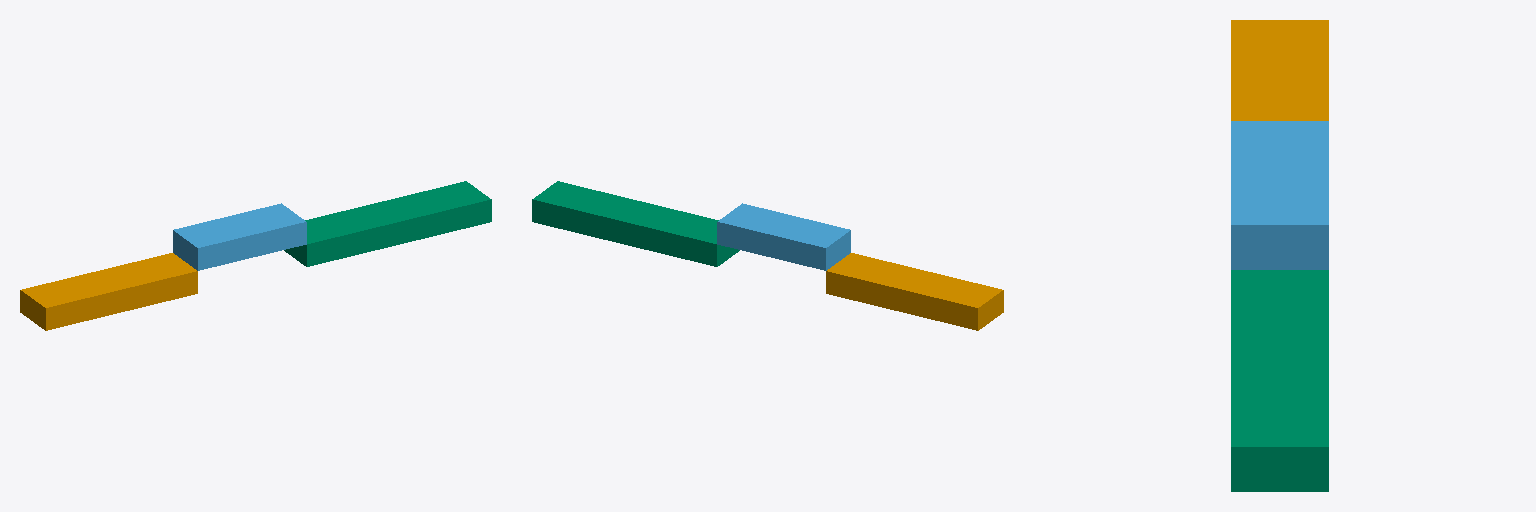
URDF robot description (test_data_v7):
<?xml version="1.0" encoding="utf-8"?>
<robot name="test_data_v7">
	<link name="link0:1">
		<inertial>
			<mass value="0.1099"/>
			<origin rpy="0 0 0" xyz="0.035 0.01 0.005"/>
			<inertia ixx="4.579166666666662e-06" ixy="0.0" ixz="0.0" iyy="4.579166666666663e-05" iyz="0.0" izz="4.8539166666666644e-05"/>
		</inertial>
		<collision name="link0:1_collision">
			<origin rpy="0.0 -0.0 0.0" xyz="0.0 0.0 0.0"/>
			<geometry>
				<mesh filename="./meshes/link0.stl" scale="1.0 1.0 1.0"/>
			</geometry>
		</collision>
		<visual name="link0:1_visual">
			<origin rpy="0.0 -0.0 0.0" xyz="0.0 0.0 0.0"/>
			<geometry>
				<mesh filename="./meshes/link0.stl" scale="1.0 1.0 1.0"/>
			</geometry>
		</visual>
	</link>
	<link name="link1:1">
		<inertial>
			<mass value="0.07849999999999999"/>
			<origin rpy="0 0 0" xyz="0.024999999999999994 -3.469446951953614e-18 0.004999999999999999"/>
			<inertia ixx="3.2708333333333284e-06" ixy="-1.1102230246251566e-20" ixz="0.0" iyy="1.7008333333333246e-05" iyz="0.0" izz="1.8970833333333203e-05"/>
		</inertial>
		<collision name="link1:1_collision">
			<origin rpy="0.0 -0.0 -1.2246467991473532e-16" xyz="-0.08 -0.00999999999999999 0.0"/>
			<geometry>
				<mesh filename="./meshes/link1.stl" scale="1.0 1.0 1.0"/>
			</geometry>
		</collision>
		<visual name="link1:1_visual">
			<origin rpy="0.0 -0.0 -1.2246467991473532e-16" xyz="-0.08 -0.00999999999999999 0.0"/>
			<geometry>
				<mesh filename="./meshes/link1.stl" scale="1.0 1.0 1.0"/>
			</geometry>
		</visual>
	</link>
	<link name="link2:1">
		<inertial>
			<mass value="0.13344999999999999"/>
			<origin rpy="0 0 0" xyz="0.04249999999999998 3.469446951953614e-18 -0.004999999999999994"/>
			<inertia ixx="5.560416666666601e-06" ixy="4.4408920985006264e-20" ixz="0.0" iyy="8.146010416666769e-05" iyz="1.3877787807814457e-21" izz="8.479635416666725e-05"/>
		</inertial>
		<collision name="link2:1_collision">
			<origin rpy="1.5707963267948966 -1.9428902930940207e-16 8.326672684688689e-17" xyz="0.0 -0.010000000000000009 -0.010000000000000002"/>
			<geometry>
				<mesh filename="./meshes/link2.stl" scale="1.0 1.0 1.0"/>
			</geometry>
		</collision>
		<visual name="link2:1_visual">
			<origin rpy="1.5707963267948966 -1.9428902930940207e-16 8.326672684688689e-17" xyz="0.0 -0.010000000000000009 -0.010000000000000002"/>
			<geometry>
				<mesh filename="./meshes/link2.stl" scale="1.0 1.0 1.0"/>
			</geometry>
		</visual>
	</link>
	<joint name="rev0" type="continuous">
		<parent link="link1:1"/>
		<child link="link2:1"/>
		<origin rpy="0 0 0" xyz="0.04999999999999999 -1.214306433183765e-17 -1.5612511283791264e-17"/>
		<axis xyz="0.0 0.0 -1.0"/>
	</joint>
	<joint name="rev1" type="continuous">
		<parent link="link0:1"/>
		<child link="link1:1"/>
		<origin rpy="0 0 0" xyz="0.07 0.01 0.01"/>
		<axis xyz="0.0 0.0 1.0"/>
	</joint>
</robot>

--- Facts derived from the render (not from the file) ---
3 views of the same robot in one strip: view 1: azimuth 30°, elevation 25°; view 2: azimuth 150°, elevation 25°; view 3: azimuth 270°, elevation 25° (orthographic).
Model test_data_v7 with 3 links and 2 joints (2 continuous), rooted at link0:1, posed all joints at 0.
Visible links, largest first — view 1: link2:1, link0:1, link1:1; view 2: link2:1, link0:1, link1:1; view 3: link2:1, link1:1, link0:1.
Boxes of the visible links, bbox=[...] form: link2:1: bbox=[284, 181, 491, 266]; link0:1: bbox=[20, 253, 197, 330]; link1:1: bbox=[173, 203, 306, 270]; link2:1: bbox=[532, 181, 739, 266]; link0:1: bbox=[826, 253, 1003, 330]; link1:1: bbox=[717, 203, 850, 270]; link2:1: bbox=[1231, 270, 1328, 491]; link1:1: bbox=[1231, 121, 1328, 269]; link0:1: bbox=[1231, 20, 1328, 120].
Bounding box of the posed robot: 0.205 × 0.02 × 0.02 m (x, y, z).
3 mesh visuals loaded from 3 distinct referenced files (3 binary STL).